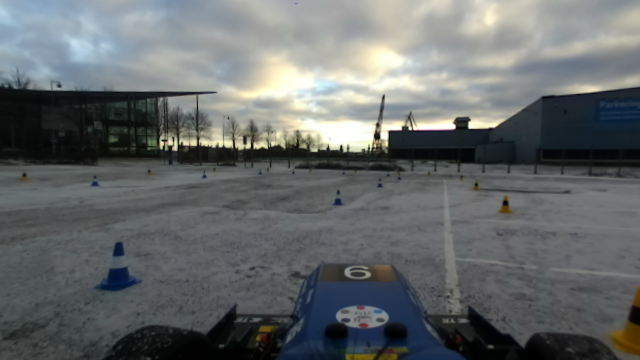blue: (95, 239, 143, 296), (332, 190, 344, 208)
yellow: (497, 193, 513, 216)
